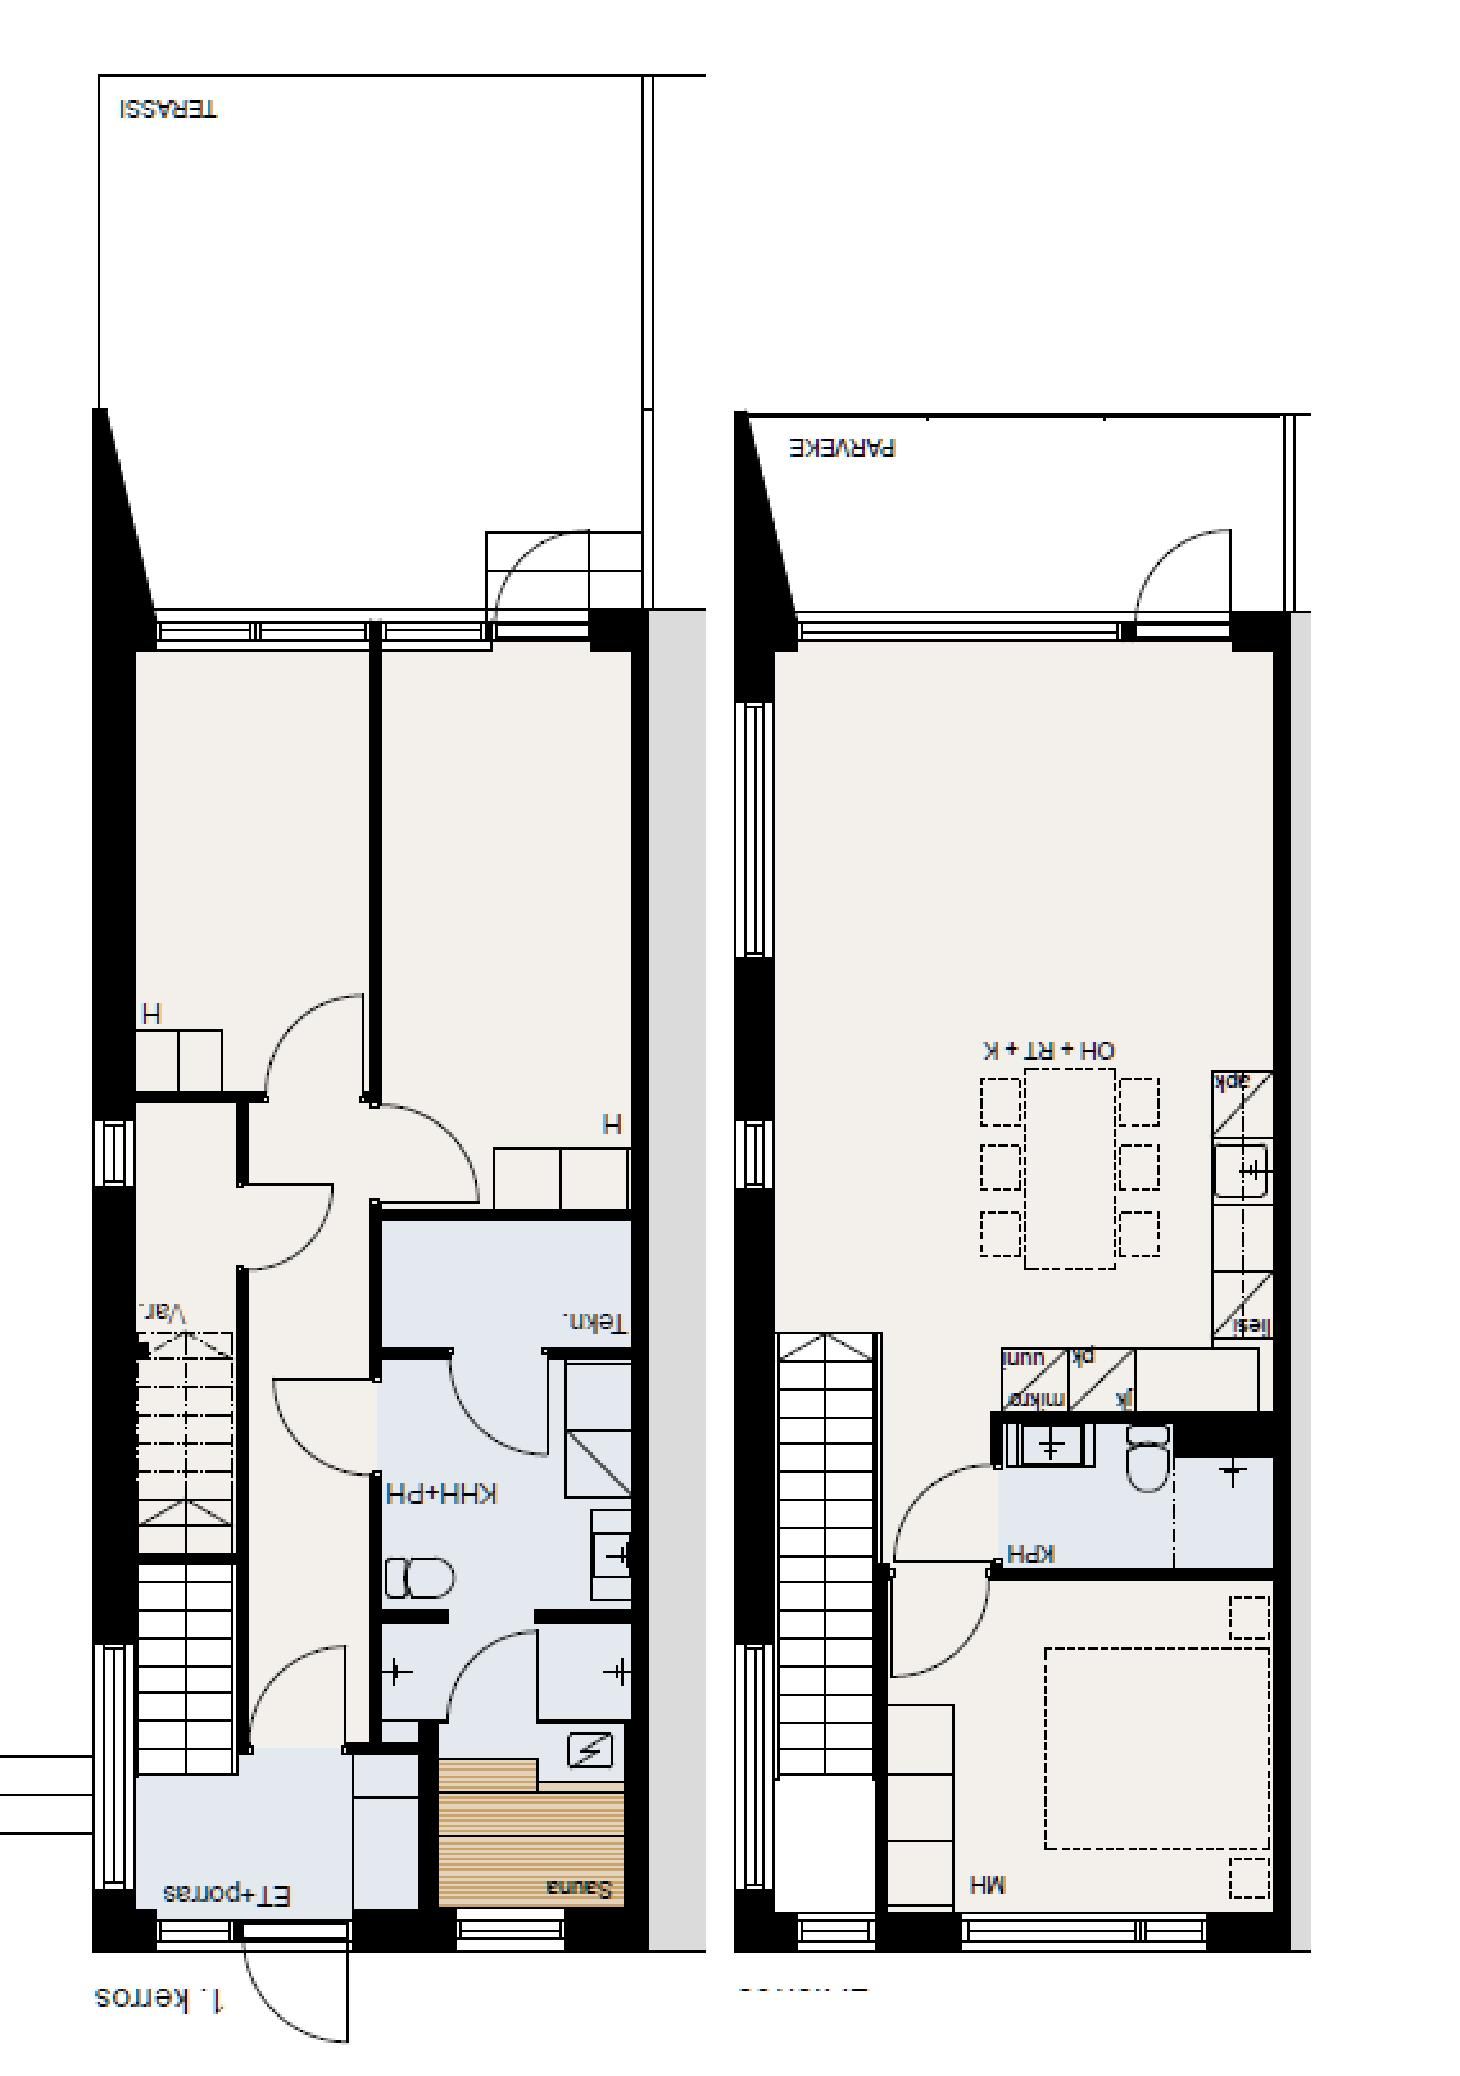door: (886, 1442, 1000, 1702), (1133, 517, 1251, 664), (243, 1920, 363, 2057), (250, 980, 370, 1104), (484, 529, 600, 645), (248, 1640, 359, 1755), (368, 1100, 491, 1202), (455, 1345, 555, 1465), (273, 1370, 371, 1479), (232, 1175, 337, 1262)
window: (800, 618, 1119, 653), (735, 694, 776, 957), (93, 1653, 133, 1893), (152, 608, 365, 649), (736, 1651, 774, 1877), (959, 1913, 1210, 1946), (381, 615, 487, 657), (461, 1913, 567, 1953), (92, 1125, 134, 1191), (161, 1913, 235, 1950), (796, 1920, 871, 1950), (743, 1112, 765, 1188)
zone: (773, 646, 1277, 1902), (139, 1207, 634, 1912), (100, 70, 642, 604), (134, 646, 626, 1205), (739, 403, 1283, 607)
